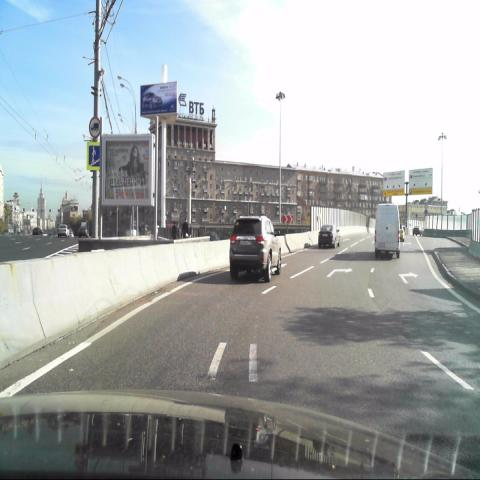3_4_1: (88, 115, 102, 138)
